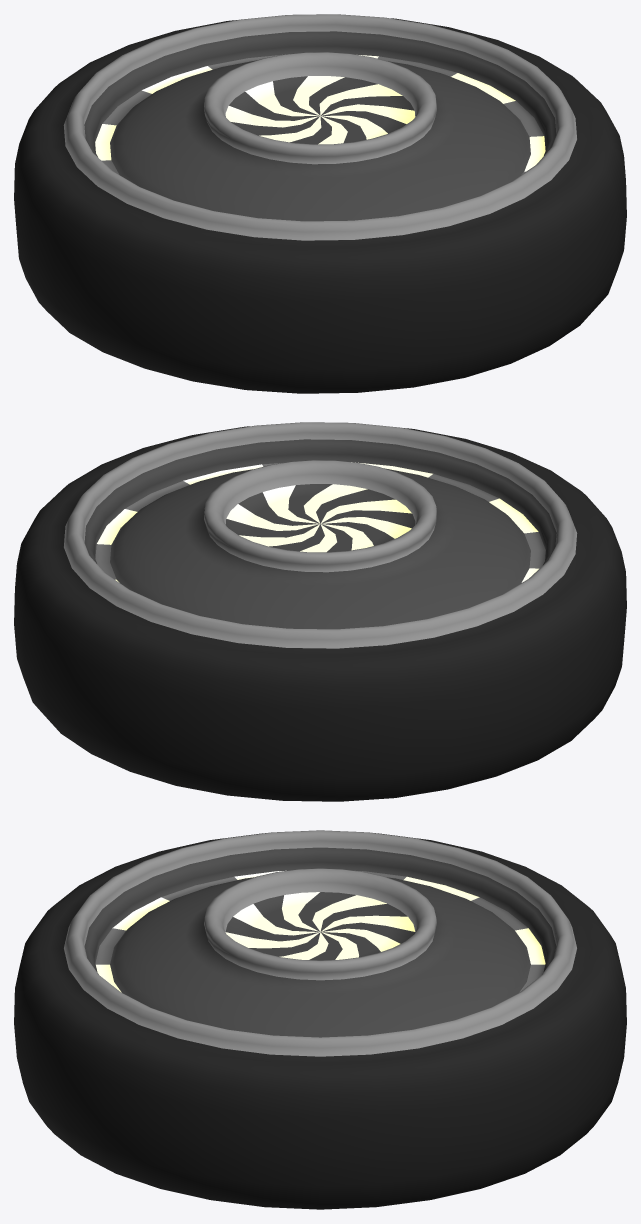
The model's file is PH_PuckHigh.fbx.
The picture shows the model from 3 angles, top to bottom: view 1: azimuth 30°, elevation 25°; view 2: azimuth 150°, elevation 25°; view 3: azimuth 270°, elevation 25°; orthographic projection.
Parts seen in each view (by area): view 1: mesh_MiniGame_Hockey_Puck; view 2: mesh_MiniGame_Hockey_Puck; view 3: mesh_MiniGame_Hockey_Puck.
Part boxes in pixels (box(x1,y1,x2,y2)): mesh_MiniGame_Hockey_Puck: box(14, 14, 626, 393); mesh_MiniGame_Hockey_Puck: box(14, 422, 626, 801); mesh_MiniGame_Hockey_Puck: box(14, 830, 626, 1209).
Size of the model in its own units: 2.33 by 0.7245 by 2.33.
